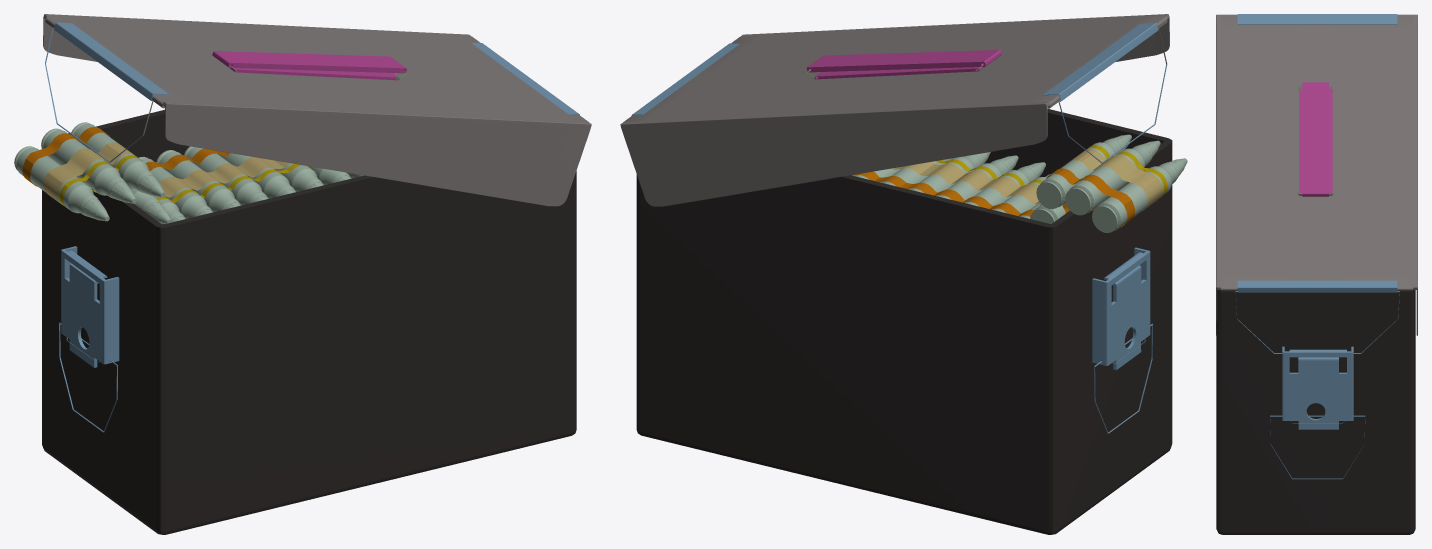
Rendered from ammoCrateModel03.fbx.
3 renders of one model, left to right at view 1: azimuth 30°, elevation 25°; view 2: azimuth 150°, elevation 25°; view 3: azimuth 270°, elevation 25°, orthographic. The views are drawn at different scales.
Visible parts, largest first — view 1: pCube1, polySurface17, AK_Bullet56, polySurface11, pCube13, pPlane1, polySurface15, pPlane2, pPlane3, polySurface14; view 2: pCube1, polySurface17, AK_Bullet56, polySurface11, pCube13, pPlane1, polySurface15, pPlane2, polySurface14, pPlane3; view 3: polySurface17, pCube1, polySurface14, pCube13, polySurface15.
Part boxes in pixels (x1,y1,x2,y2): pCube1: (42,109,576,534); polySurface17: (43,14,591,206); AK_Bullet56: (14,122,363,224); polySurface11: (61,246,119,367); pCube13: (212,51,407,80); pPlane1: (42,142,289,205); polySurface15: (45,22,169,162); pPlane2: (22,127,230,186); pPlane3: (59,155,312,206); polySurface14: (471,43,579,114); pCube1: (636,109,1172,534); polySurface17: (620,14,1169,206); AK_Bullet56: (853,134,1187,232); polySurface11: (1092,247,1150,370); pCube13: (806,50,1001,79); pPlane1: (891,149,1163,210); polySurface15: (1043,23,1167,163); pPlane2: (851,168,1135,227); polySurface14: (631,43,739,115); pPlane3: (935,145,1167,196); polySurface17: (1216,14,1417,335); pCube1: (1216,290,1415,534); polySurface14: (1235,280,1399,479); pCube13: (1297,82,1334,196); polySurface15: (1237,14,1397,24).
Bounding box in the file's own units: 2.29 × 1.98 × 1.01.
